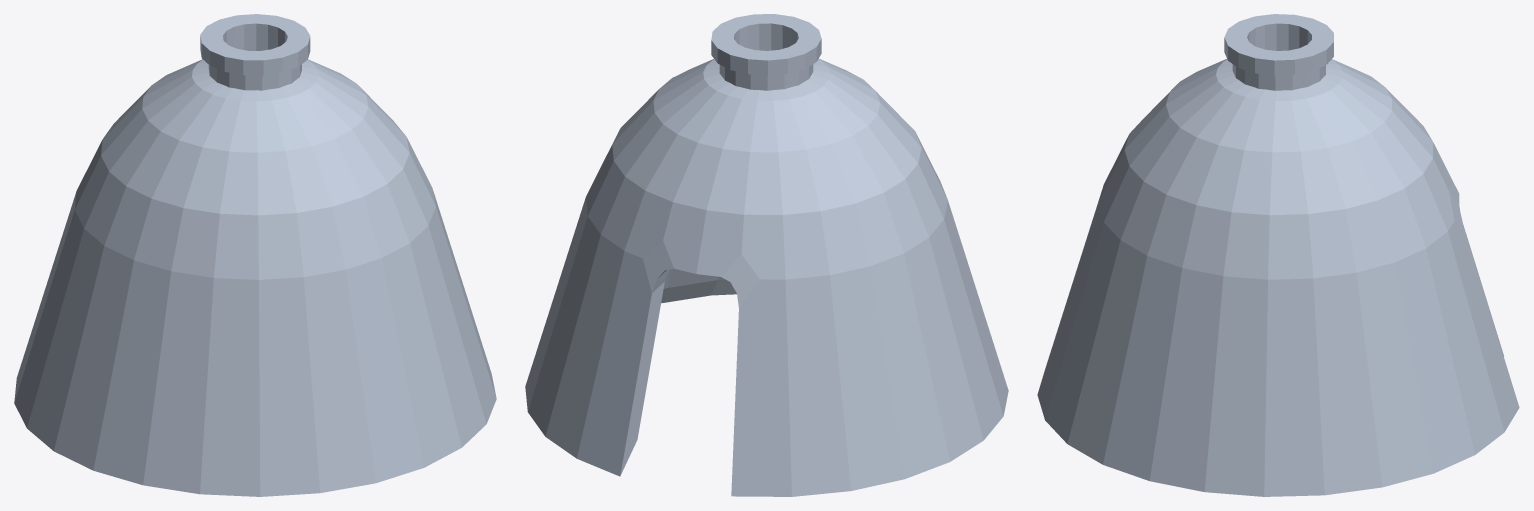
The model's file is SimónLiker-4D-ChimeneaAzteca.fbx.
3 views of the same model, side by side, from view 1: azimuth 30°, elevation 25°; view 2: azimuth 150°, elevation 25°; view 3: azimuth 270°, elevation 25° (orthographic).
Parts seen in each view (by area): view 1: Cylinder.002; view 2: Cylinder.002; view 3: Cylinder.002.
Part boxes in pixels (left/top/right/bottom): Cylinder.002: left=14, top=14, right=496, bottom=496; Cylinder.002: left=525, top=14, right=1008, bottom=496; Cylinder.002: left=1037, top=14, right=1519, bottom=496.
Size of the model in its own units: 529 by 432 by 528.
1 material, 1 textured.
